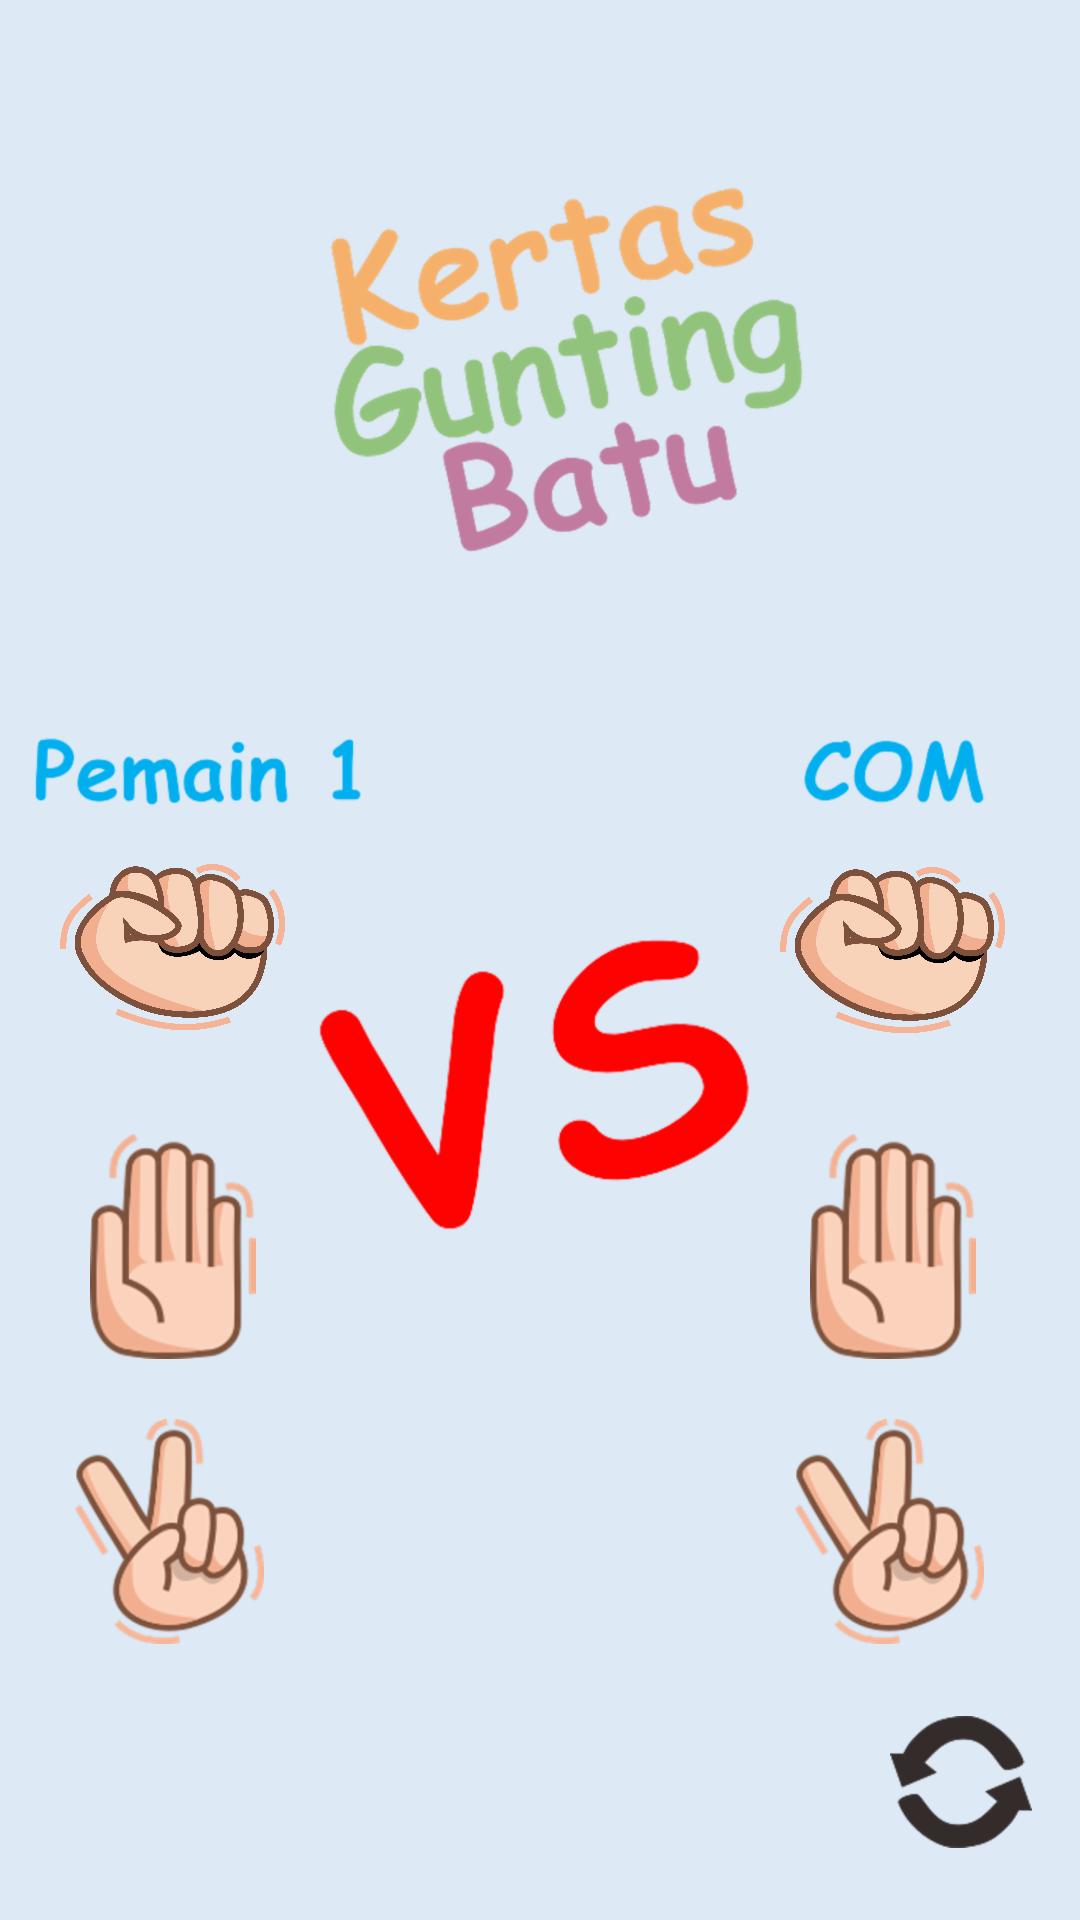

Named icons in this screenshot (1080*1920) and their centers, point (x, y):
batu: point (172, 947), point (892, 950)
gunting: point (169, 1531), point (889, 1531)
kertas: point (173, 1246), point (893, 1246)
refresh: point (961, 1782)
